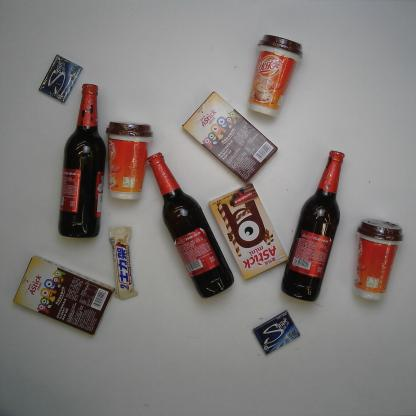Alcohol: (146, 152, 236, 300), (281, 149, 346, 304), (56, 82, 108, 238)
Chocolate: (108, 226, 140, 300)
Dessert: (181, 90, 280, 184), (11, 254, 115, 336), (208, 184, 286, 281)
Gum: (38, 53, 84, 103), (252, 310, 301, 355)
Instant Drink: (246, 34, 303, 118), (352, 218, 405, 300), (103, 121, 154, 202)
